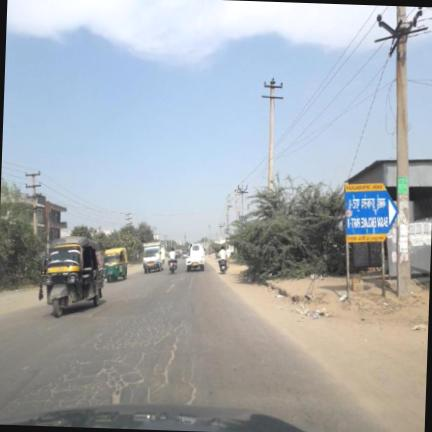Road: (0, 261, 384, 431)
